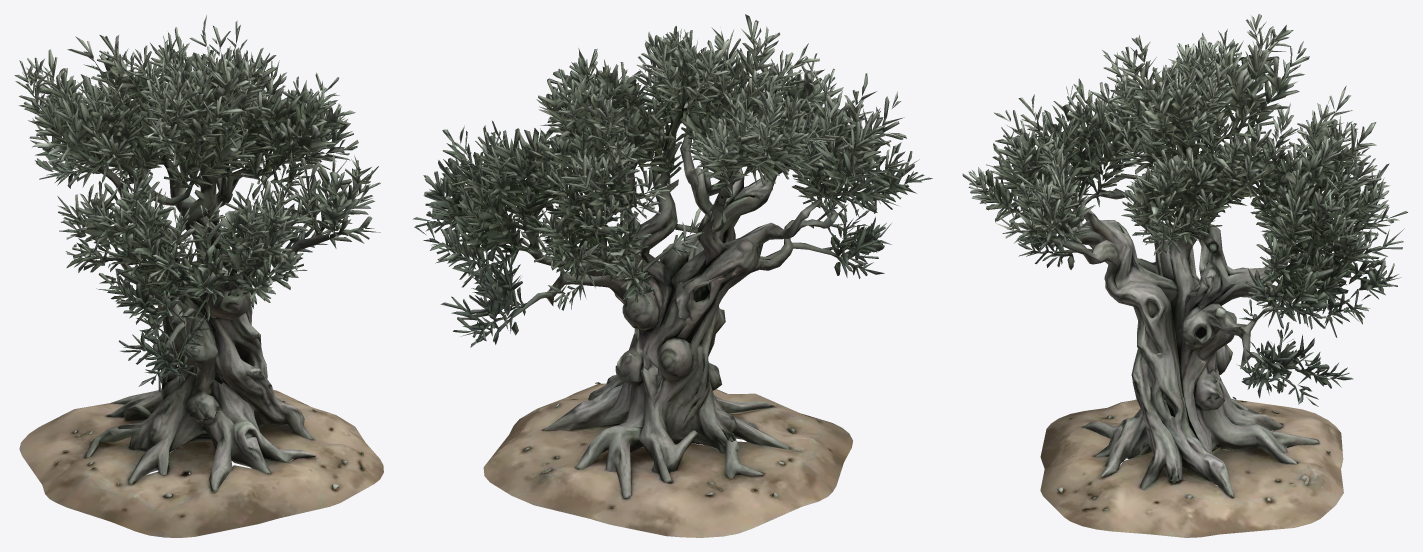
File: nature_tree_olive.glb
3 renders of one model, left to right at view 1: azimuth 30°, elevation 25°; view 2: azimuth 150°, elevation 25°; view 3: azimuth 270°, elevation 25°, orthographic. The views are drawn at different scales.
Visible parts, largest first — view 1: world; view 2: world; view 3: world.
Boxes of the visible parts, box(x1,y1,x2,y2) form: world: box(14, 15, 383, 537); world: box(413, 14, 932, 537); world: box(962, 14, 1407, 537).
Size of the model in its own units: 5.8 by 6.5 by 6.34.
1 material, 1 textured.
